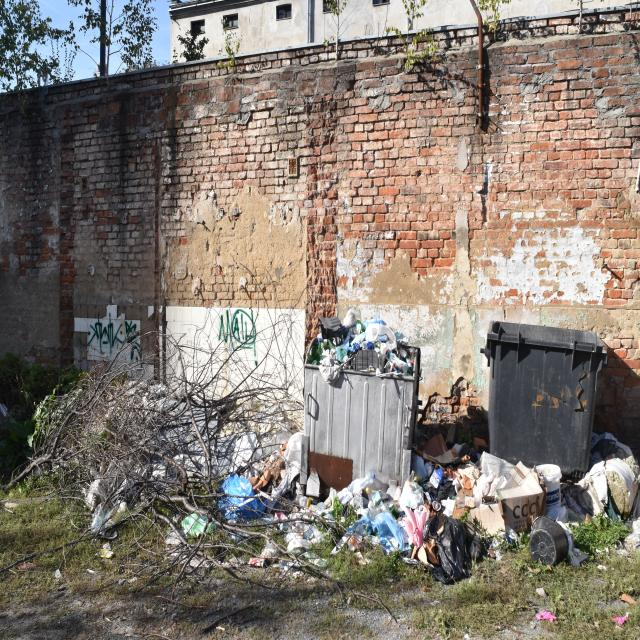lixo domiciliar: (395, 426, 483, 581), (292, 468, 415, 563), (467, 457, 563, 549), (306, 310, 416, 380), (222, 442, 302, 524), (561, 452, 640, 526), (590, 432, 634, 465)
restos de madeira: (7, 328, 298, 524), (169, 518, 290, 592)
